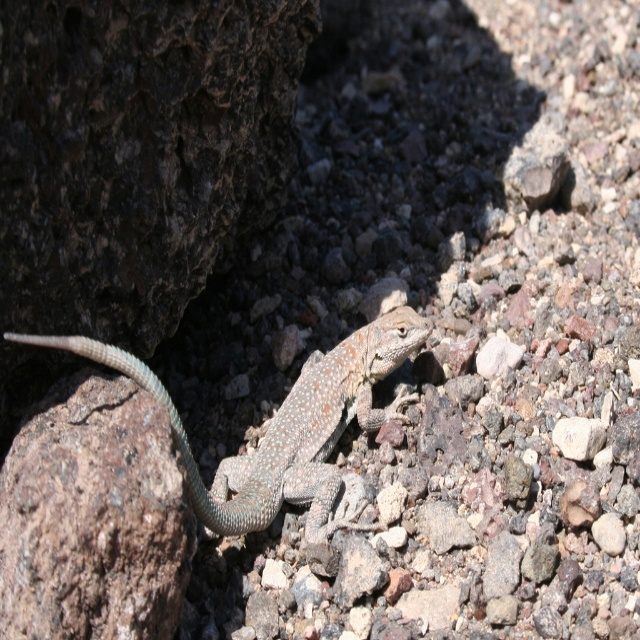Lizard: (3, 305, 434, 547)
